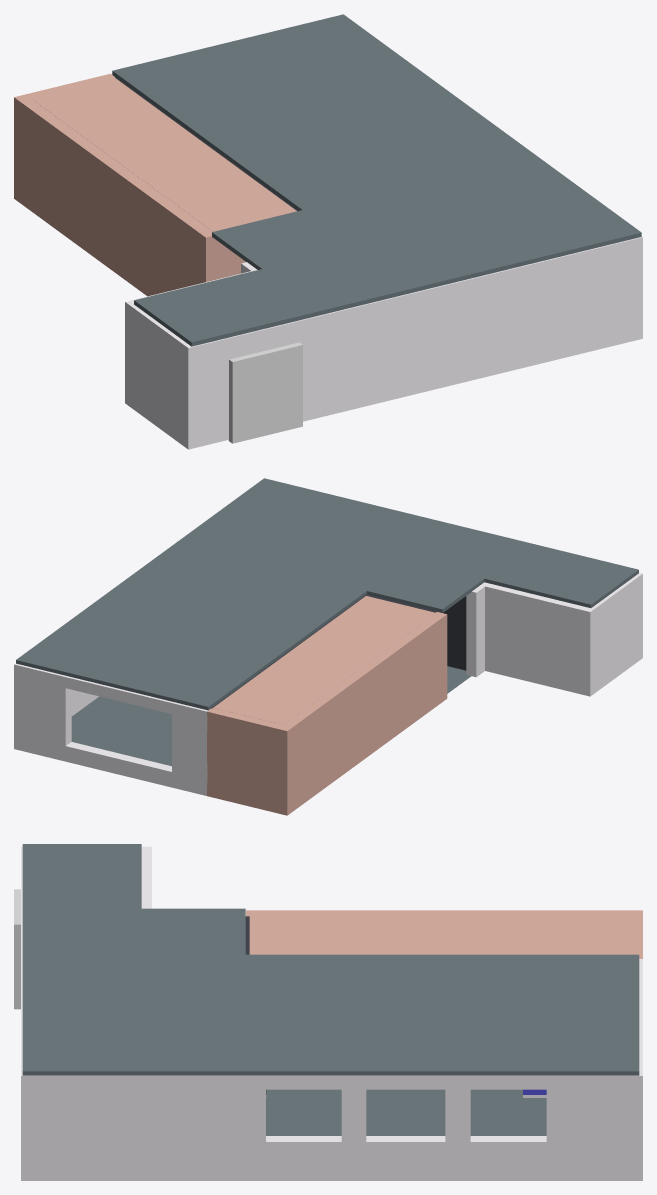
File: layout.fbx
3 renders of one model, top to bottom at view 1: azimuth 30°, elevation 25°; view 2: azimuth 150°, elevation 25°; view 3: azimuth 270°, elevation 25°, orthographic. The views are drawn at different scales.
Visible parts, largest first — view 1: Ceil, OuterWall, MeetingRoomWall, Elevator; view 2: Ceil, MeetingRoomWall, OuterWall, MainFloor, InnerWallPanel; view 3: Ceil, OuterWall, MeetingRoomWall, MainFloor, Elevator.
Part boxes in pixels (x1,y1,x2,y2): Ceil: (112,14,641,346); OuterWall: (110,73,642,449); MeetingRoomWall: (14,74,296,296); Elevator: (228,342,302,443); Ceil: (16,478,638,710); MeetingRoomWall: (207,596,447,815); OuterWall: (14,572,642,795); MainFloor: (71,666,471,766); InnerWallPanel: (211,594,466,708); Ceil: (22,844,639,1075); OuterWall: (21,846,642,1180); MeetingRoomWall: (246,910,642,958); MainFloor: (266,1089,546,1135); Elevator: (14,889,20,1009).
Size of the model in its own units: 2463 by 479 by 2126.
